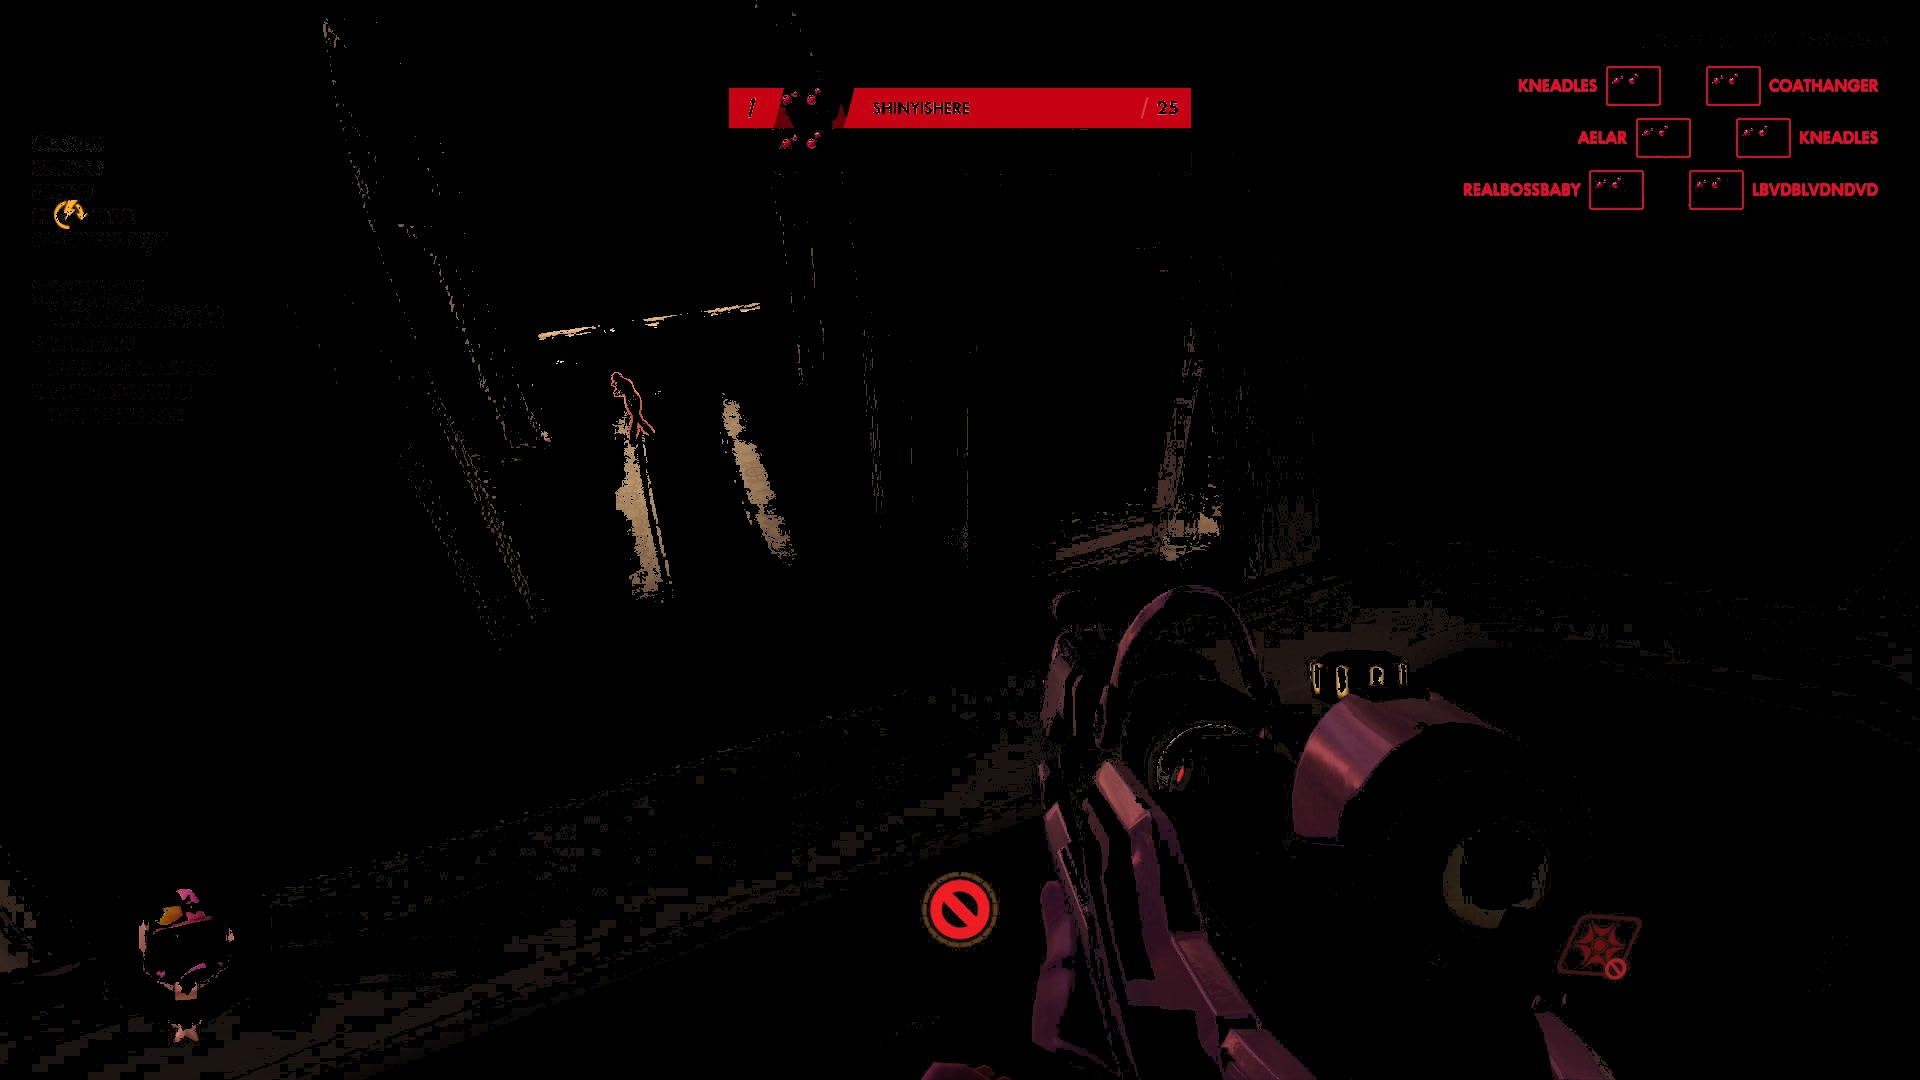widowmaker: (611, 372, 659, 446)
